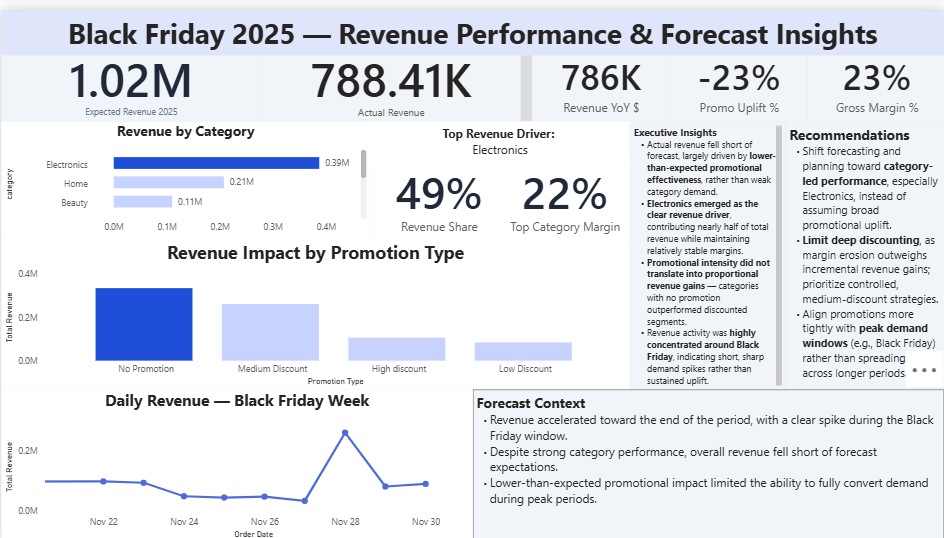

This screenshot's page, from the dashboard's own definition file:
{"tool":"powerbi","page":{"name":"Page 1","canvas":[1280,720],"ordinal":0},"visuals":[{"type":"card","fields":{"Values":["_Measures.Promo Uplift %"]},"box":[906.5,45.7,187,104.3],"z":0},{"type":"card","fields":{"Values":["_Measures.Gross Margin %"]},"box":[1093.5,45.7,187,104.3],"z":1000},{"type":"lineChart","title":"Daily Revenue — Black Friday Week","fields":{"Y":["_Measures.Total Revenue"],"Category":["fact_orders.Order Date"]},"box":[0,513,639.1,206.5],"z":2000},{"type":"clusteredBarChart","title":"Revenue by Category","fields":{"Category":["dim_products.category"],"Y":["_Measures.Total Revenue"]},"box":[0,150,500,160.9],"z":3000},{"type":"card","fields":{"Values":["Metric.Actual Revenue"]},"box":[352.2,45.7,352.2,104.3],"z":6000},{"type":"card","fields":{"Values":["Metric.Expected Revenue 2025"]},"box":[0,45.7,352.2,104.3],"z":7000},{"type":"card","fields":{"Values":["_Measures.Revenue YoY $"]},"box":[719.6,45.7,187,104.3],"z":8000},{"type":"textbox","box":[852.2,150,210.9,363],"z":10000},{"type":"textbox","box":[1063,150,215.2,363],"z":11000},{"type":"textbox","box":[500,150,352.2,60.9],"z":11002},{"type":"card","fields":{"Values":["Metric.Top Category Contribution %"]},"box":[500,195.7,187,115.2],"z":11003},{"type":"clusteredColumnChart","title":"Revenue Impact by Promotion Type","fields":{"Y":["_Measures.Total Revenue"],"Category":["fact_orders.Promotion Type"]},"box":[0,310.9,852.2,202.2],"z":11005},{"type":"textbox","box":[639.1,513,639.1,206.5],"z":11006},{"type":"card","fields":{"Values":["Metric.Top Category Gross Margin %"]},"box":[676.1,195.7,176.1,115.2],"z":11007},{"type":"textbox","box":[0,0,1278.3,60.9],"z":11008}]}

Visuals, with their boxes in screenshot pixels (x1, y1, x2, y2), scaled from the page's 1280x720 canvas onto the 944x538 screenshot:
card - _Measures.Promo Uplift %: {"left": 669, "top": 34, "right": 806, "bottom": 112}
card - _Measures.Gross Margin %: {"left": 806, "top": 34, "right": 943, "bottom": 112}
"Daily Revenue — Black Friday Week" lineChart: {"left": 0, "top": 383, "right": 471, "bottom": 537}
"Revenue by Category" clusteredBarChart: {"left": 0, "top": 112, "right": 369, "bottom": 232}
card - Metric.Actual Revenue: {"left": 260, "top": 34, "right": 519, "bottom": 112}
card - Metric.Expected Revenue 2025: {"left": 0, "top": 34, "right": 260, "bottom": 112}
card - _Measures.Revenue YoY $: {"left": 531, "top": 34, "right": 669, "bottom": 112}
textbox: {"left": 628, "top": 112, "right": 784, "bottom": 383}
textbox: {"left": 784, "top": 112, "right": 943, "bottom": 383}
textbox: {"left": 369, "top": 112, "right": 628, "bottom": 158}
card - Metric.Top Category Contribution %: {"left": 369, "top": 146, "right": 507, "bottom": 232}
"Revenue Impact by Promotion Type" clusteredColumnChart: {"left": 0, "top": 232, "right": 628, "bottom": 383}
textbox: {"left": 471, "top": 383, "right": 943, "bottom": 537}
card - Metric.Top Category Gross Margin %: {"left": 499, "top": 146, "right": 628, "bottom": 232}
textbox: {"left": 0, "top": 0, "right": 943, "bottom": 46}
